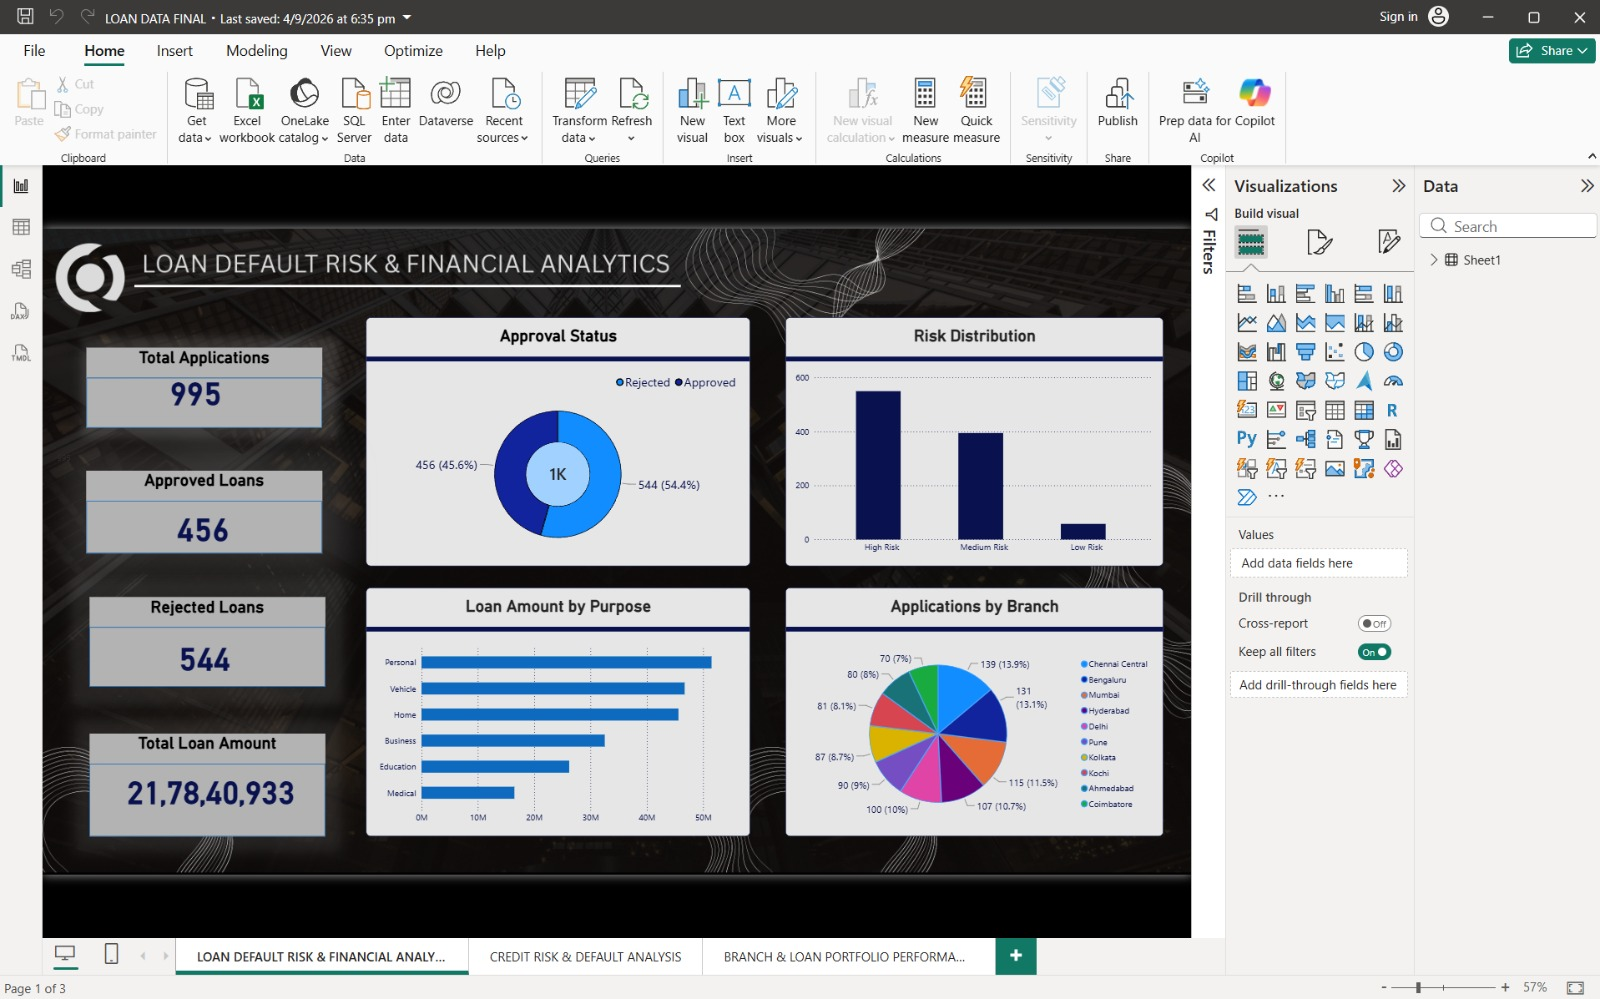

The dashboard page shown, as its layout file describes it:
{"tool":"powerbi","page":{"name":"LOAN DEFAULT RISK & FINANCIAL ANALYTICS","canvas":[1920,1080],"ordinal":0},"visuals":[{"type":"donutChart","title":"Approval Status","fields":{"Category":["Sheet1.Approval_Status"],"Y":["CountNonNull(Sheet1.Application_ID)"]},"box":[540,148,642,416],"z":0},{"type":"clusteredColumnChart","title":" Risk Distribution","fields":{"Category":["Sheet1.Risk_Category"],"Y":["CountNonNull(Sheet1.Application_ID)"]},"box":[1242,148,632,416],"z":1000},{"type":"clusteredBarChart","title":"Loan Amount by Purpose","fields":{"Category":["Sheet1.Loan_Purpose"],"Y":["Sum(Sheet1.Loan_Amount_INR)"]},"box":[540,600,642,416],"z":2000},{"type":"pieChart","title":"Applications by Branch","fields":{"Category":["Sheet1.Branch"],"Y":["CountNonNull(Sheet1.Application_ID)"]},"box":[1242,600,632,416],"z":3000},{"type":"shape","title":"Total Applications","box":[74,198,394,134],"z":4000},{"type":"textbox","box":[24,374,354,54],"z":5000},{"type":"textbox","title":"995","box":[212,246,128,70],"z":6000},{"type":"shape","title":"Approved Loans","box":[74,404,394,138],"z":7000},{"type":"textbox","title":"456","box":[170,474,198,98],"z":8000},{"type":"shape","title":"Rejected Loans","box":[78,616,394,150],"z":9000},{"type":"textbox","title":"544","box":[202,690,136,76],"z":10000},{"type":"shape","title":"Total Loan Amount","box":[78,844,394,172],"z":11000},{"type":"textbox","box":[270,413,513,150],"z":12000},{"type":"textbox","title":"21,78,40,933","box":[78,914,406,140],"z":13000},{"type":"shape","box":[153.8,21.2,913.5,150],"z":13001}]}

Visuals, with their boxes on the page's 1920x1080 design canvas (x1, y1, x2, y2). These are canvas units, not pixel positions in the 1600x999 screenshot, which may show the page scaled, cropped or inside an application window:
"Approval Status" donutChart: [x1=540, y1=148, x2=1182, y2=564]
" Risk Distribution" clusteredColumnChart: [x1=1242, y1=148, x2=1874, y2=564]
"Loan Amount by Purpose" clusteredBarChart: [x1=540, y1=600, x2=1182, y2=1016]
"Applications by Branch" pieChart: [x1=1242, y1=600, x2=1874, y2=1016]
"Total Applications" shape: [x1=74, y1=198, x2=468, y2=332]
textbox: [x1=24, y1=374, x2=378, y2=428]
"995" textbox: [x1=212, y1=246, x2=340, y2=316]
"Approved Loans" shape: [x1=74, y1=404, x2=468, y2=542]
"456" textbox: [x1=170, y1=474, x2=368, y2=572]
"Rejected Loans" shape: [x1=78, y1=616, x2=472, y2=766]
"544" textbox: [x1=202, y1=690, x2=338, y2=766]
"Total Loan Amount" shape: [x1=78, y1=844, x2=472, y2=1016]
textbox: [x1=270, y1=413, x2=783, y2=563]
"21,78,40,933" textbox: [x1=78, y1=914, x2=484, y2=1054]
shape: [x1=154, y1=21, x2=1067, y2=171]
